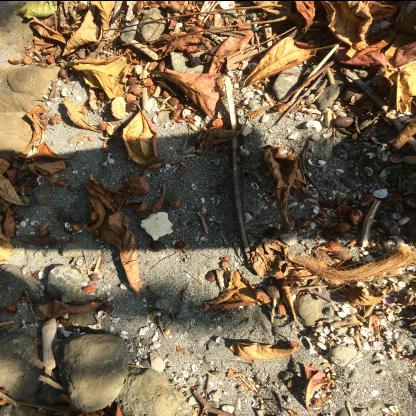kopuk: (140, 211, 174, 240)
